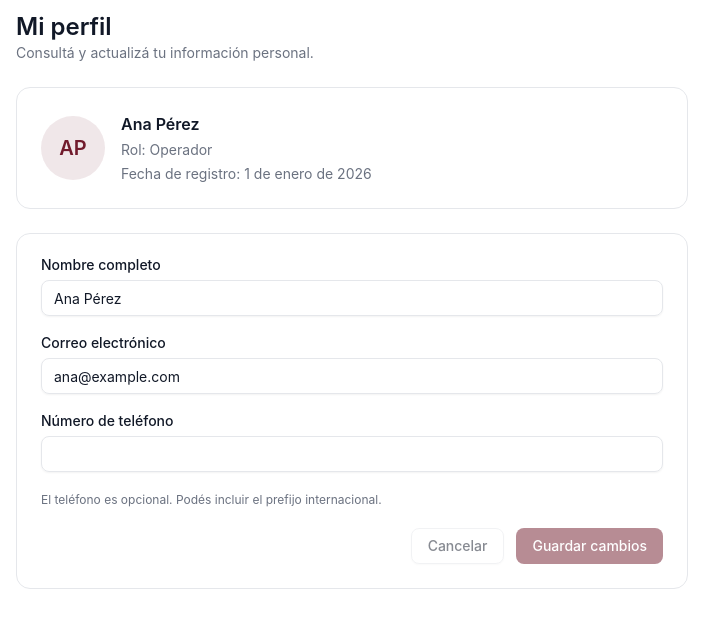
Test case: Mi perfil › carga datos y deshabilita guardar sin cambios o con formatos inválidos
The image size is (705, 634).
Expected: the field showing "Ana Pérez" is shown, [41,280,663,316]
Expected: the button "Guardar cambios" is disabled, [516,528,663,564]
Step 1. Replace the text in the field labelled "Correo electrónico" with "incorrecto" → x=352, y=376, box [41,358,663,394]
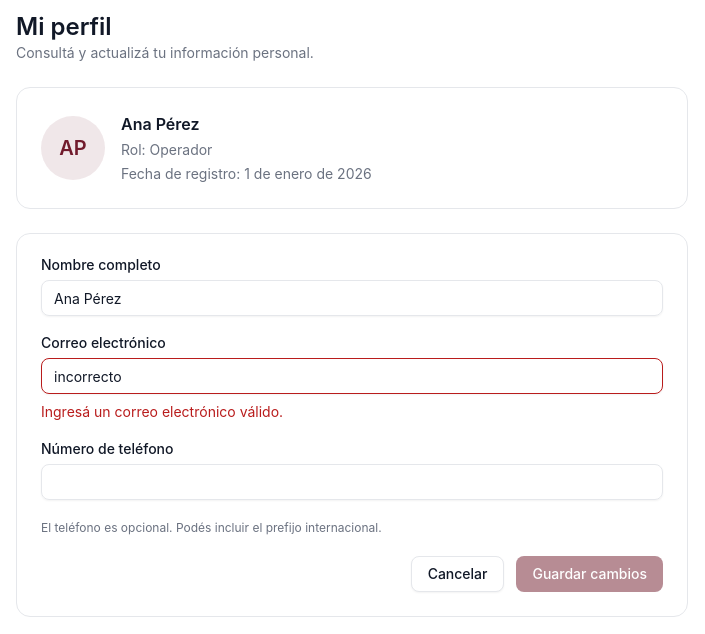
Expected: the button "Guardar cambios" is disabled, [516,556,663,592]
Step 2. Replace the text in the field labelled "Correo electrónico" with "nuevo@example.com" → x=352, y=376, box [41,358,663,394]
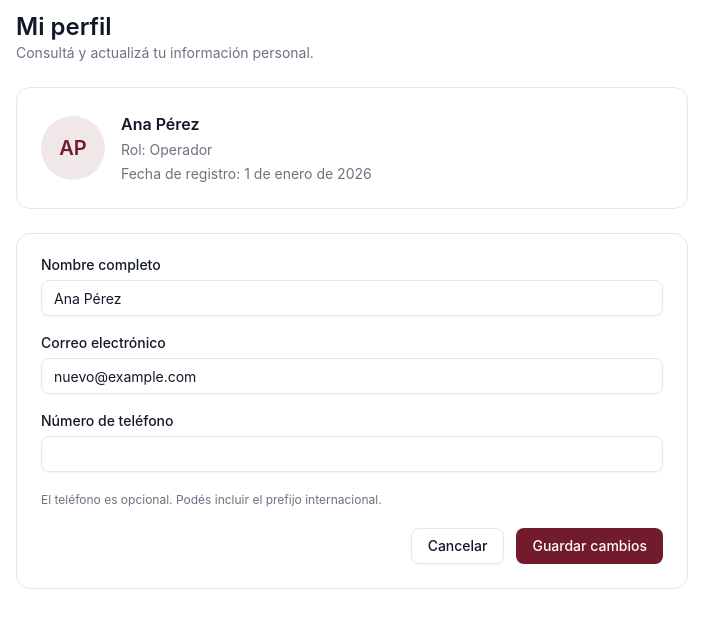
Step 3. Type "abc" into the field labelled "Número de teléfono" → x=352, y=454, box [41,436,663,472]
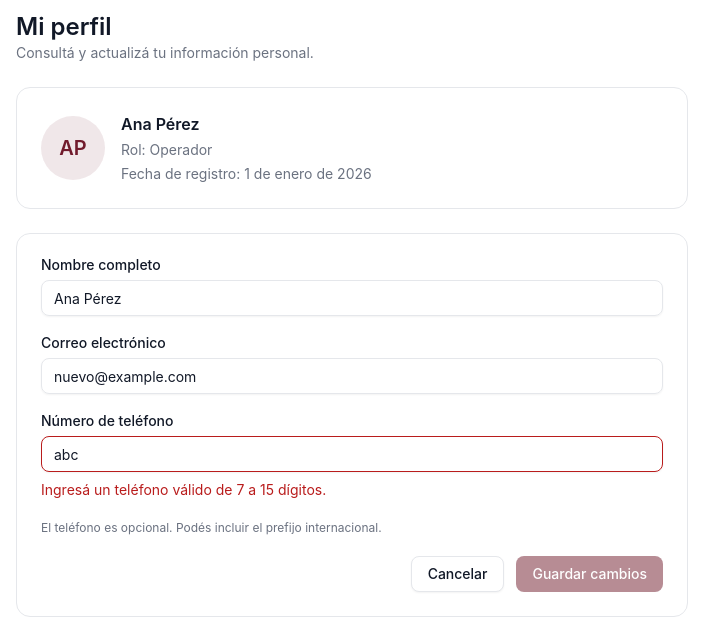
Result: the button "Guardar cambios" is disabled at [516,556,663,592]
Step 4. Replace the text in the field labelled "Número de teléfono" with "+52 961 123 4567" → x=352, y=454, box [41,436,663,472]
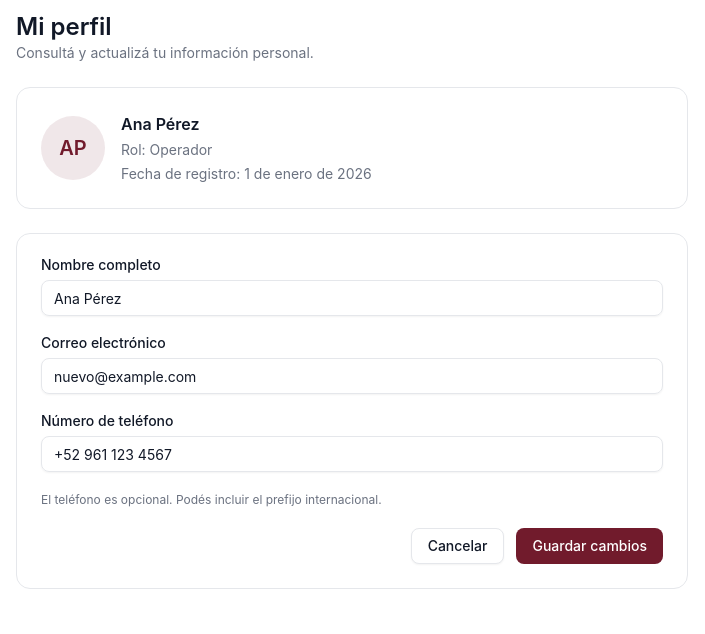
Result: the button "Guardar cambios" is enabled at [516,528,663,564]
Step 5. Click the button "Cancelar" → x=458, y=546, box [411,528,504,564]
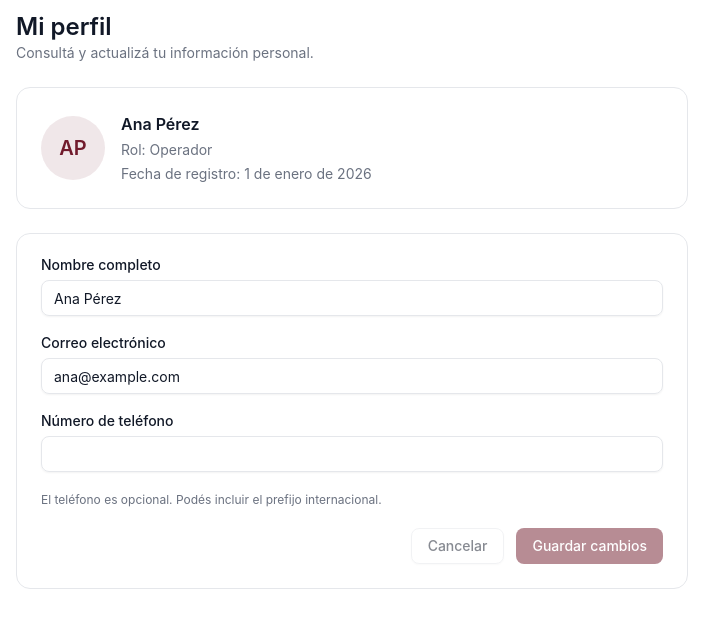
Result: the field labelled "Correo electrónico" holds "ana@example.com" at [41,358,663,394]
Result: the button "Guardar cambios" is disabled at [516,528,663,564]
